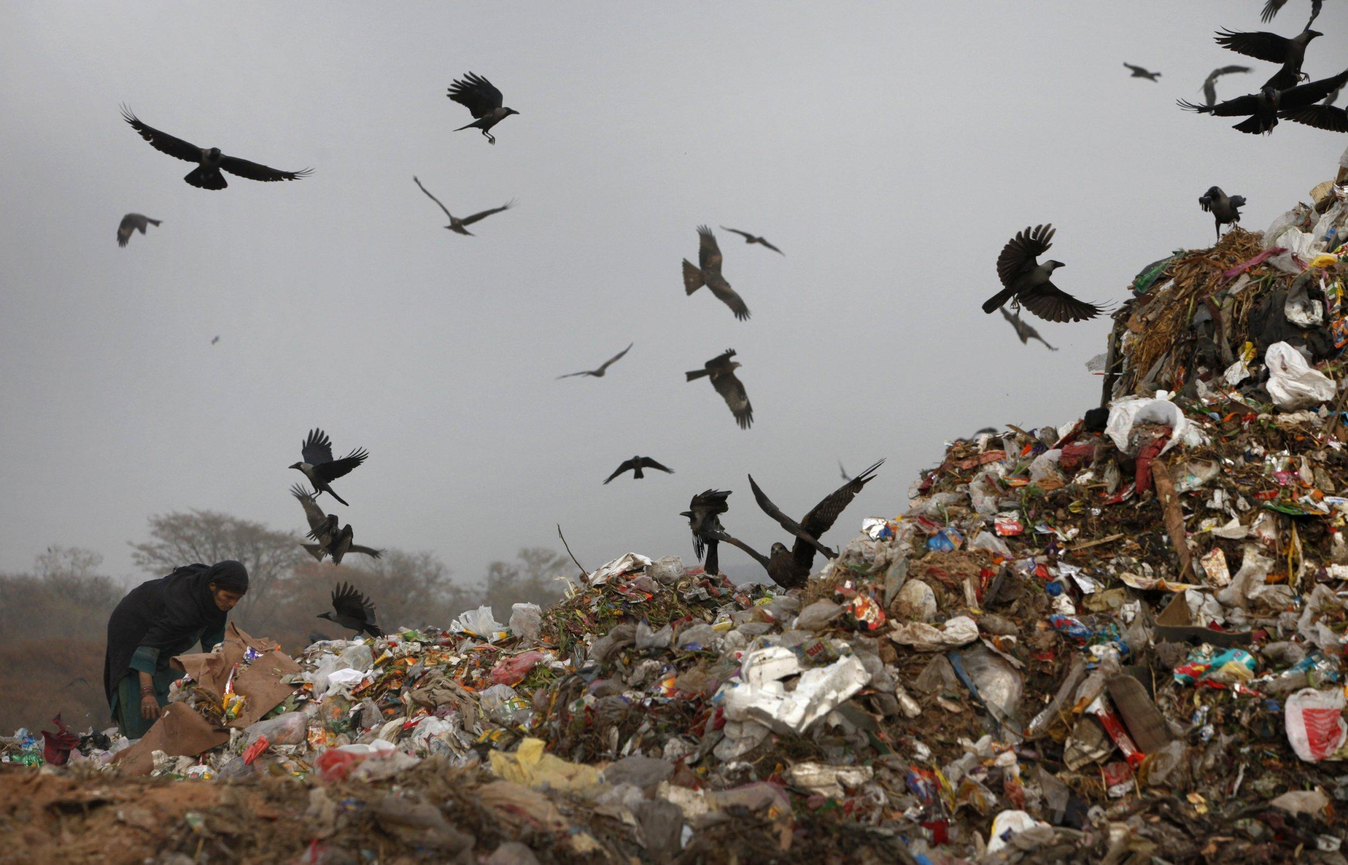garbage: (260, 316, 1348, 865)
